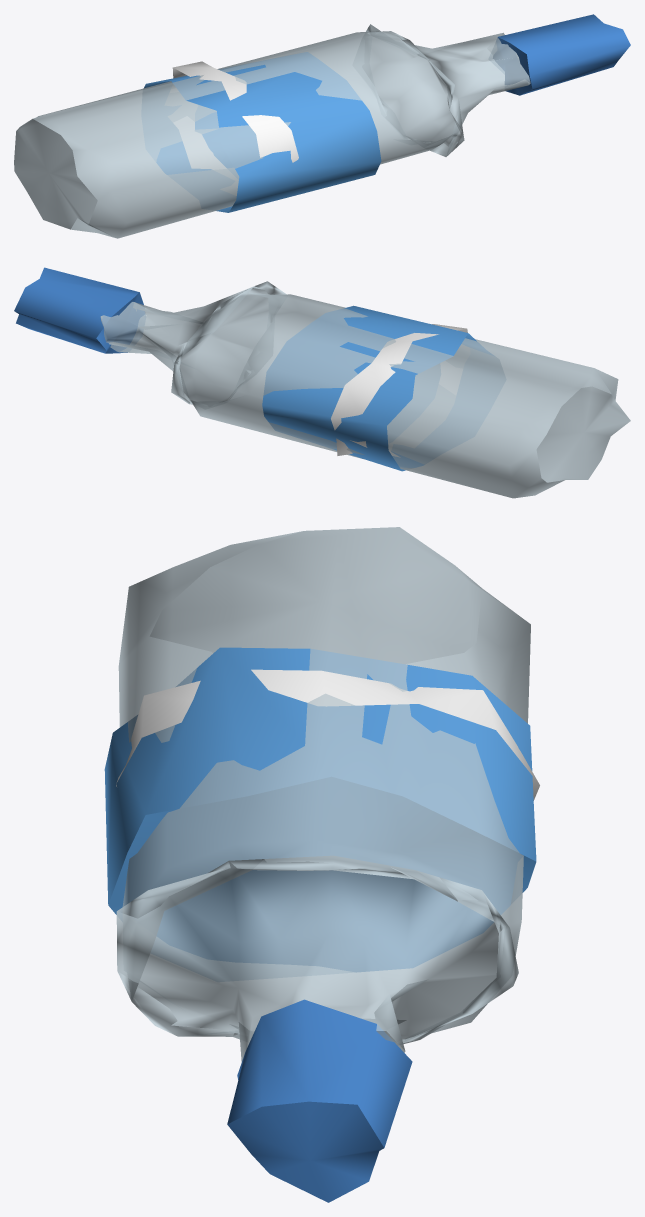
Rendered from bottle_water_crushed.fbx.
The picture shows the model from 3 angles, top to bottom: view 1: azimuth 30°, elevation 25°; view 2: azimuth 150°, elevation 25°; view 3: azimuth 270°, elevation 25°; orthographic projection. The views are drawn at different scales.
Parts seen in each view (by area): view 1: bottle_water_crushed; view 2: bottle_water_crushed; view 3: bottle_water_crushed.
Part boxes in pixels (x1,y1,x2,y2): bottle_water_crushed: (14, 14, 630, 238); bottle_water_crushed: (14, 267, 630, 498); bottle_water_crushed: (104, 527, 539, 1202).
Size of the model in its own units: 0.2904 by 0.0545 by 0.0975.
